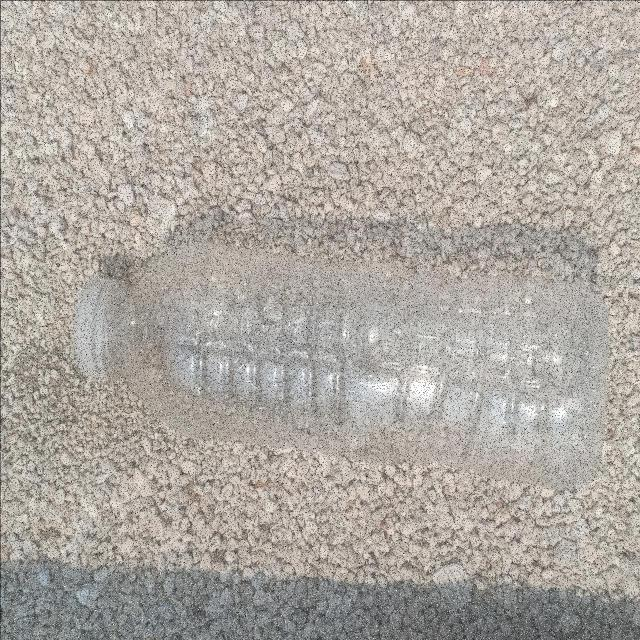plastic_waste: (74, 242, 611, 492)
